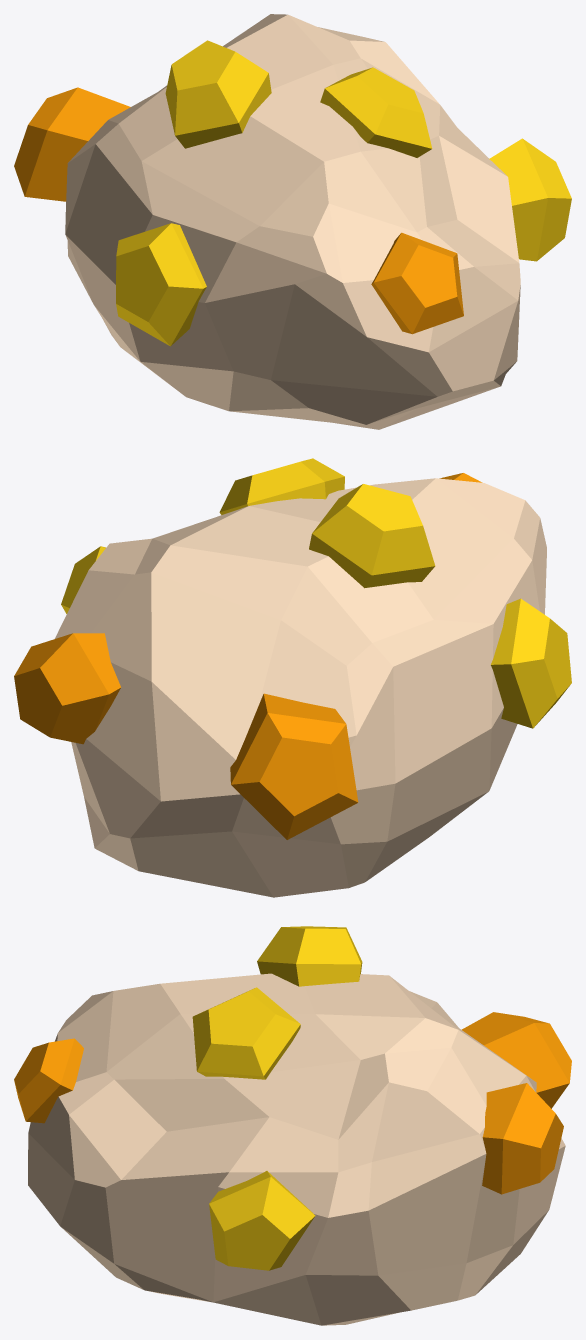
The model's file is MineralNode_06_B.fbx.
3 views of the same model, one above another, from view 1: azimuth 30°, elevation 25°; view 2: azimuth 150°, elevation 25°; view 3: azimuth 270°, elevation 25° (orthographic). The views are drawn at different scales.
Parts seen in each view (by area): view 1: MineralNode_06_B; view 2: MineralNode_06_B; view 3: MineralNode_06_B.
Part boxes in pixels (left/top/right/bottom): MineralNode_06_B: left=14, top=14, right=571, bottom=429; MineralNode_06_B: left=14, top=458, right=571, bottom=897; MineralNode_06_B: left=14, top=926, right=571, bottom=1325.
Size of the model in its own units: 91.51 by 67.1 by 107.
